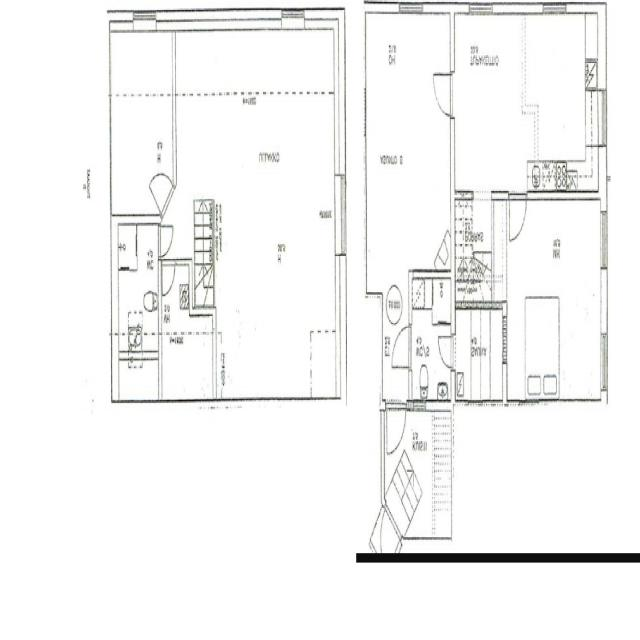door: (372, 502, 402, 576), (148, 156, 174, 219), (387, 402, 405, 454), (509, 193, 527, 241), (434, 74, 454, 114), (392, 327, 411, 368), (162, 259, 176, 297), (438, 336, 454, 368), (158, 226, 173, 258)
